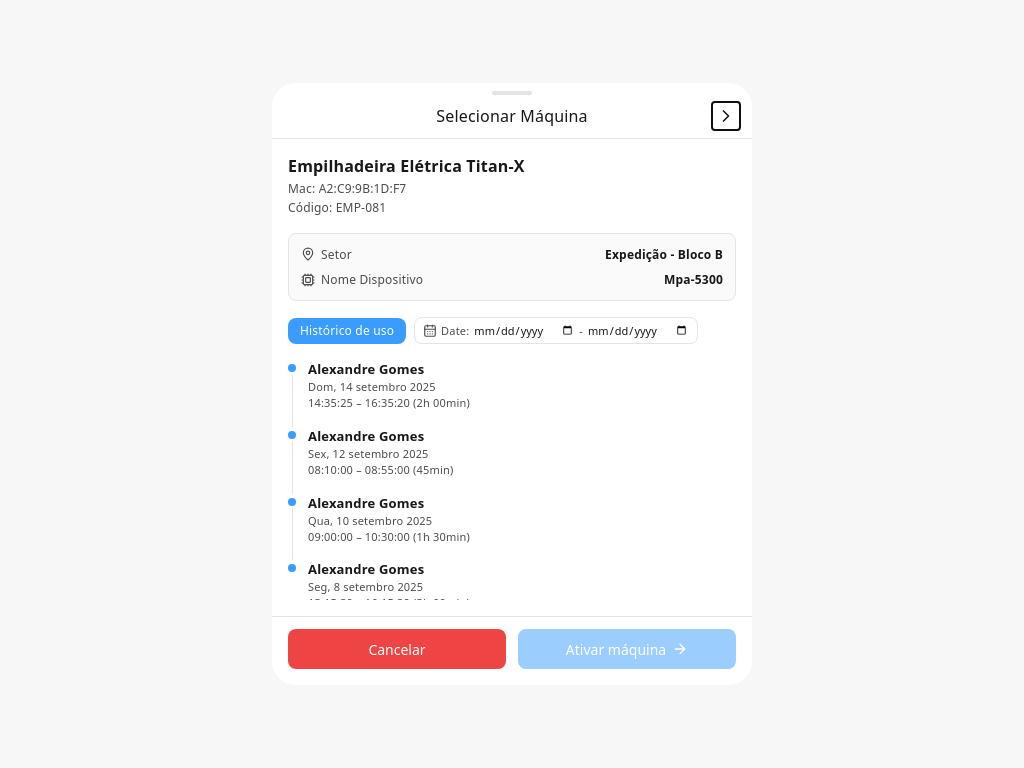
Test: MachineDetailSheet › shows the empty message for an inverted period
This screenshot has width=1024, height=768.
Type "2026-01-01" into the date field named "Data inicial" at (524, 331), box [473,322,575,339]
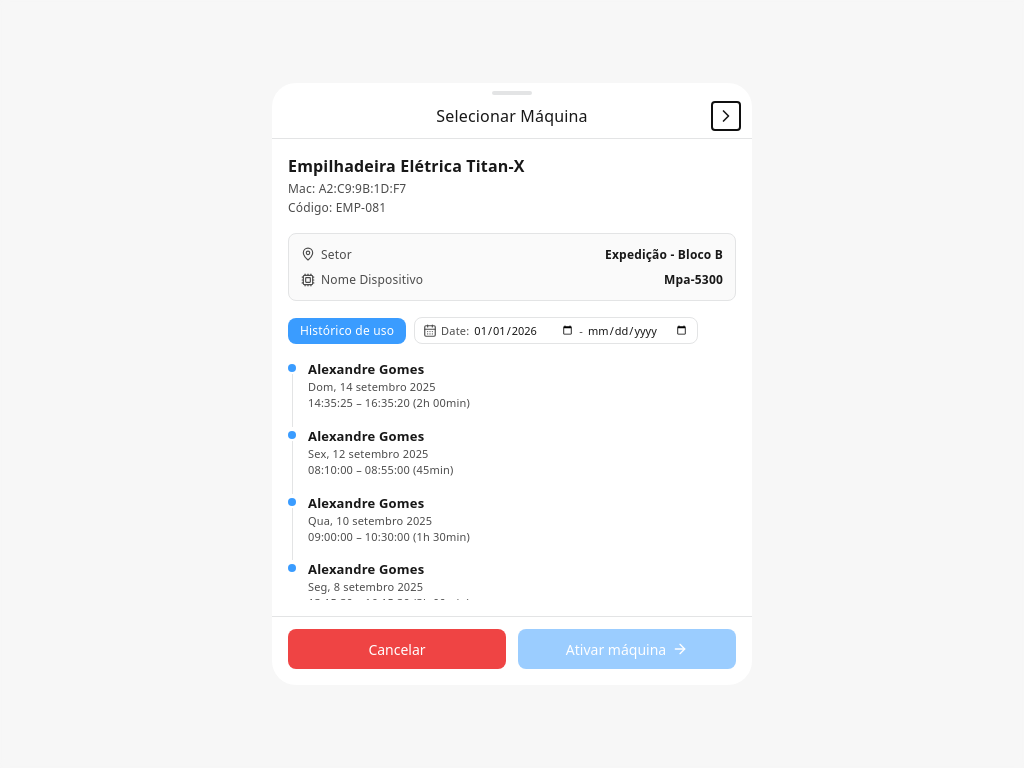
Type "2025-01-01" into the date field named "Data final" at (638, 331), box [587,322,689,339]
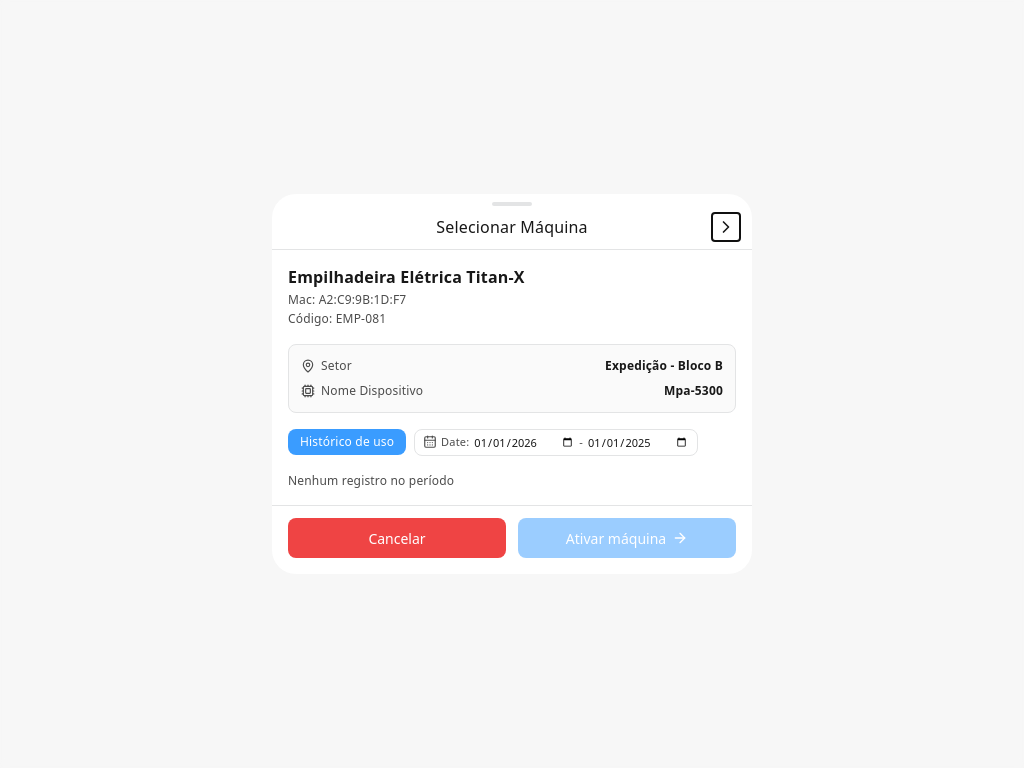
Now the list item "Alexandre Gomes Dom, 14 setembro 2025 14:35:25 – 16:35:20 (2h 00min)" is gone
Now the text "Nenhum registro no período" is shown, box [288,472,454,489]
